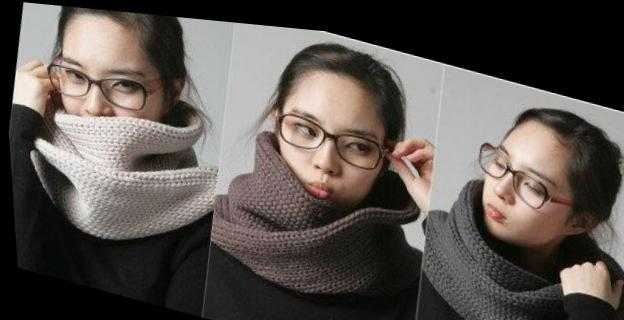NONE: (262, 96, 391, 227), (467, 127, 573, 246)
WRONG: (38, 40, 162, 167)
